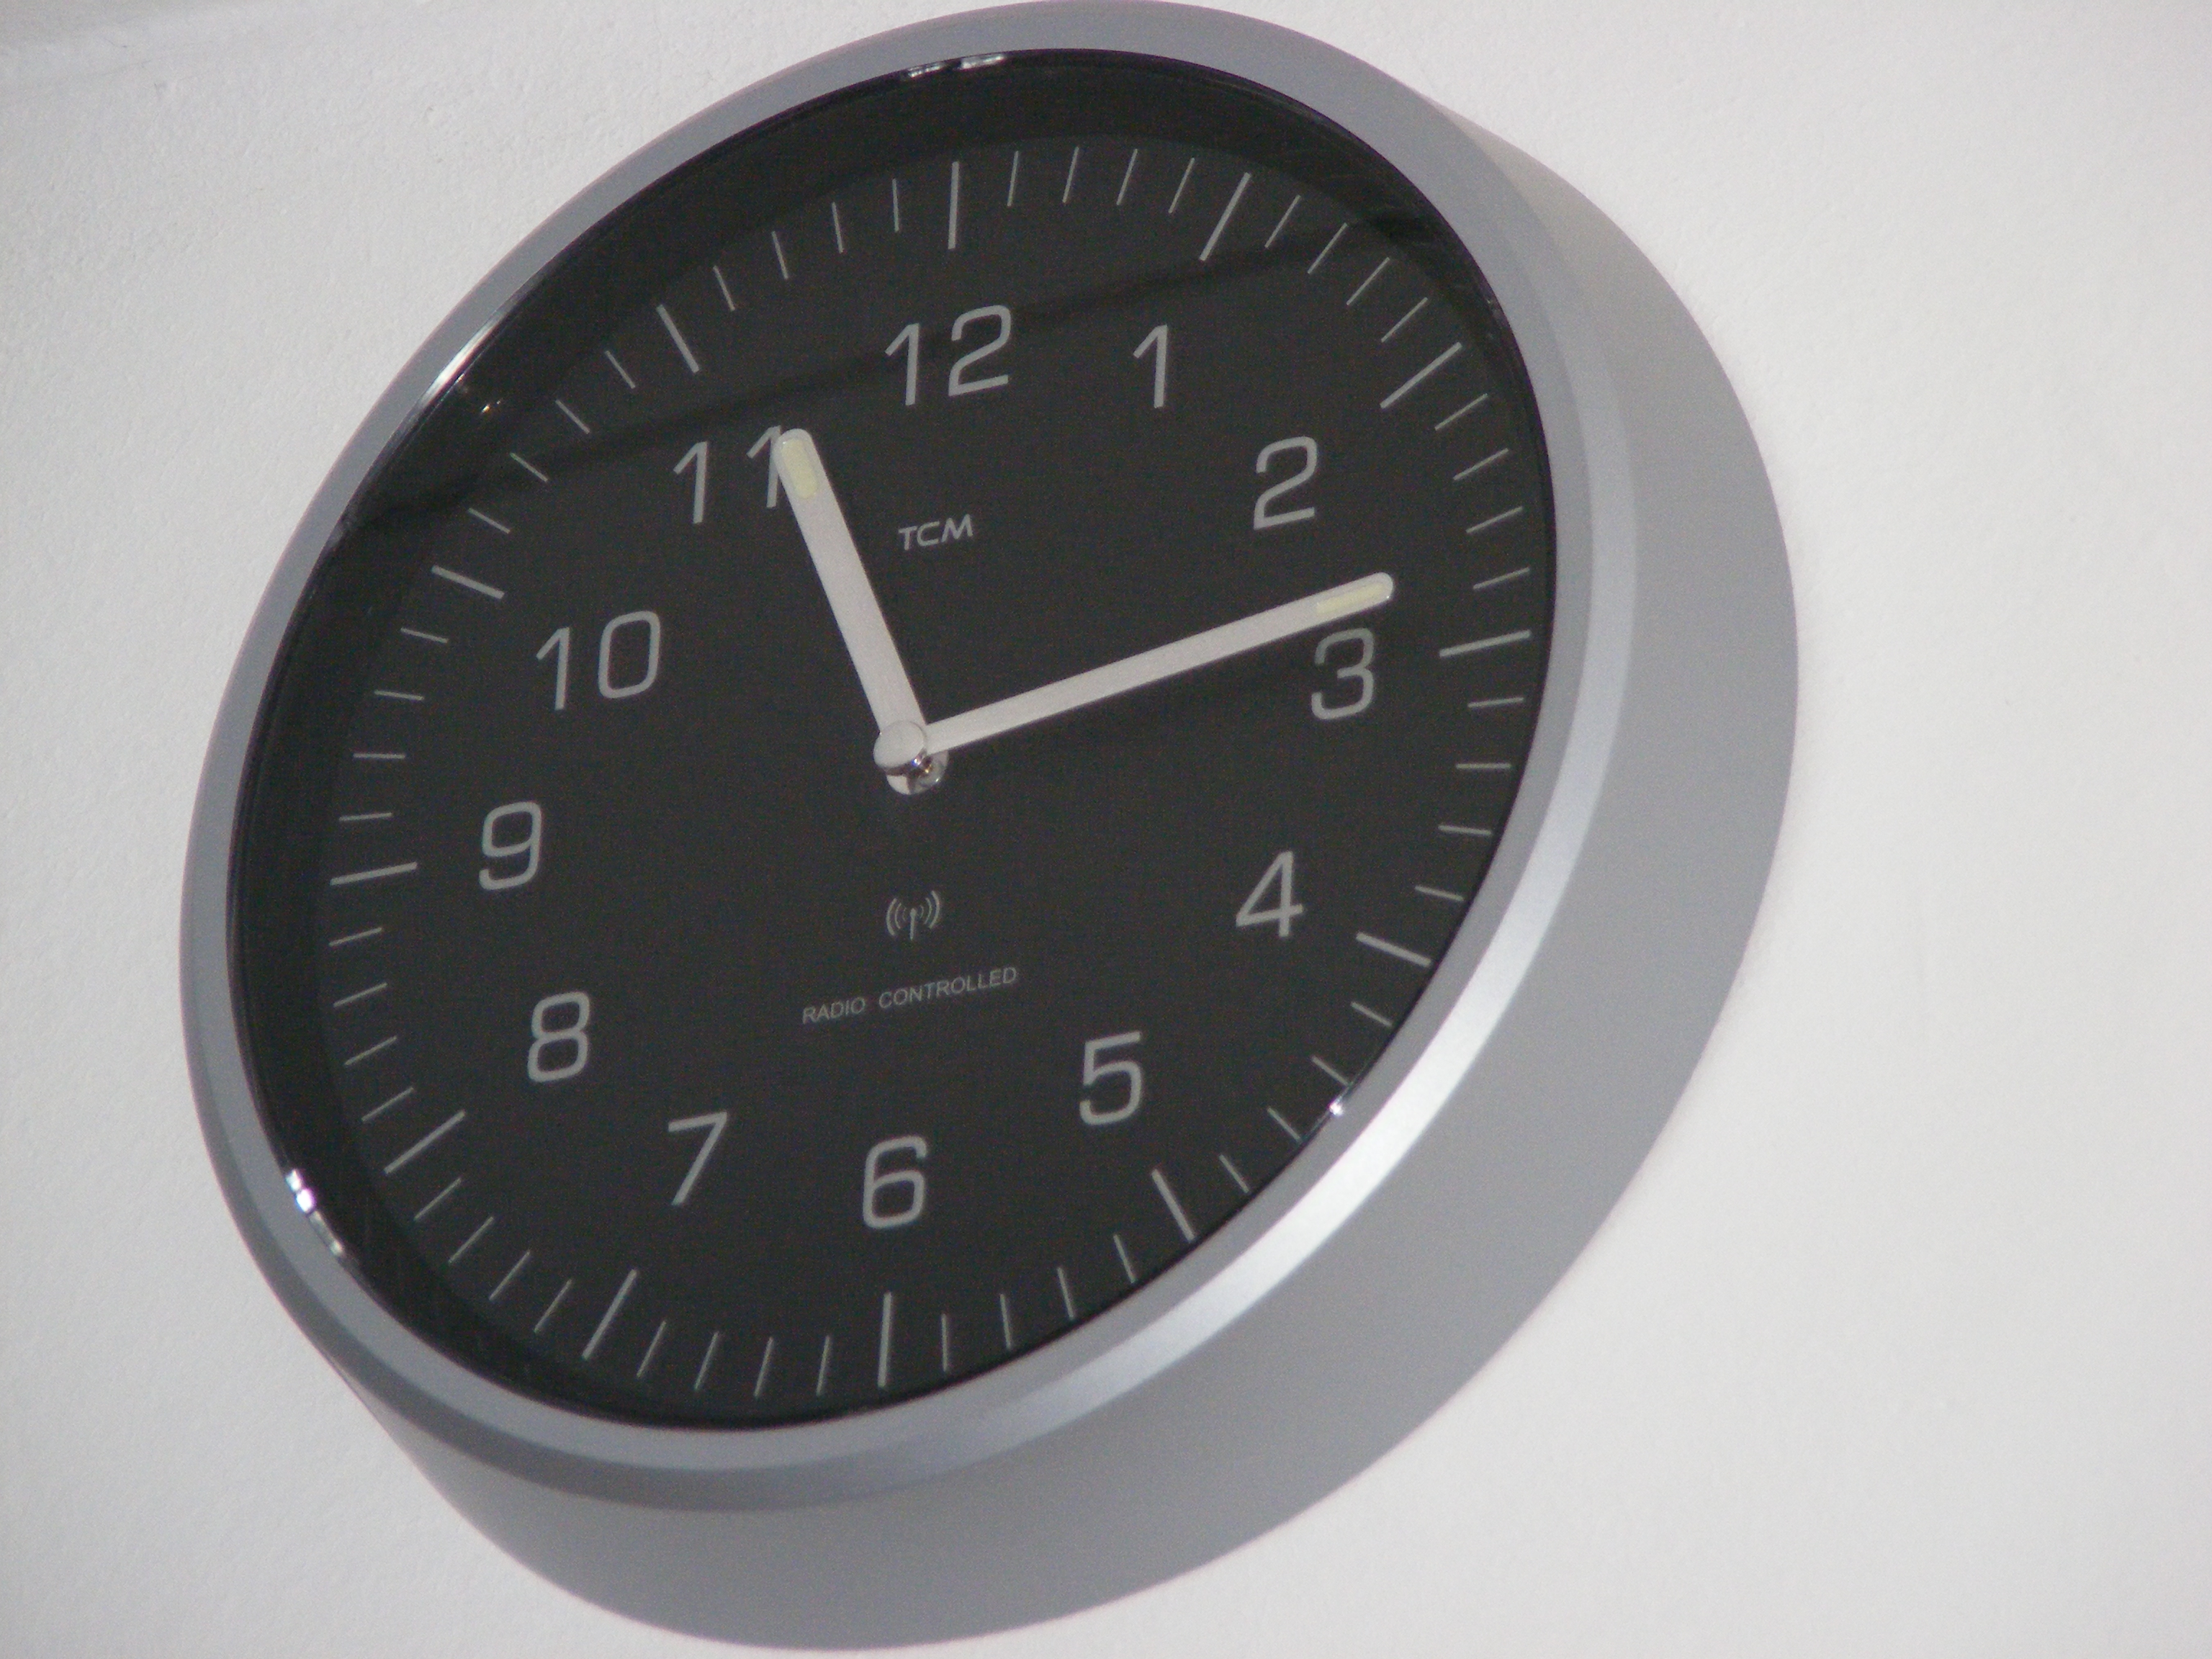clock: (226, 3, 1630, 1516)
